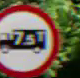Heavy Vehicles: (0, 5, 59, 74)
